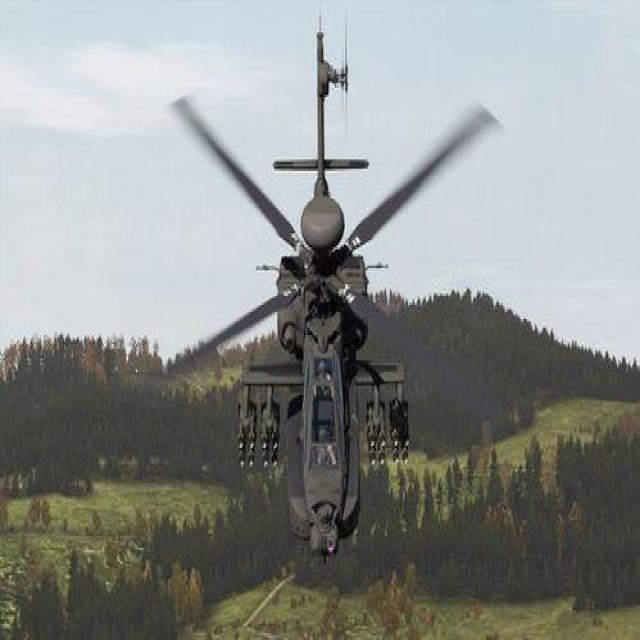MIL_HELO: (140, 49, 527, 560)
